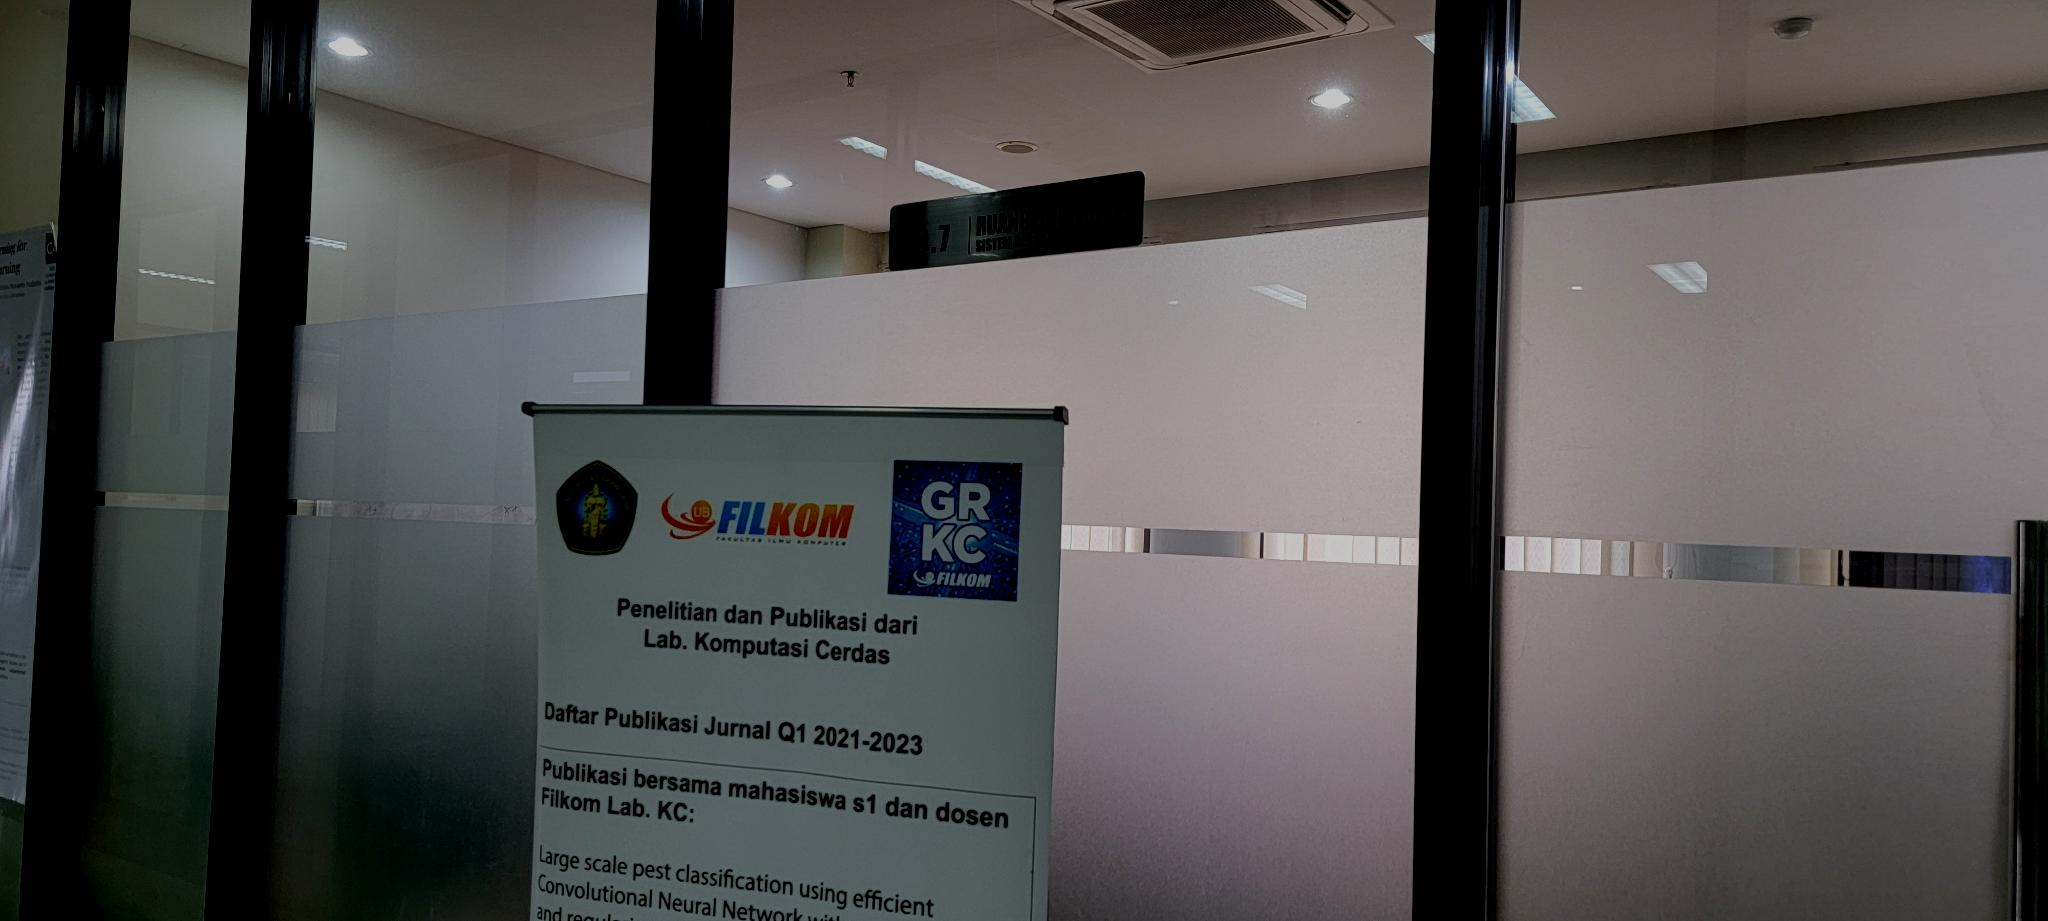plate: (889, 167, 1147, 272)
